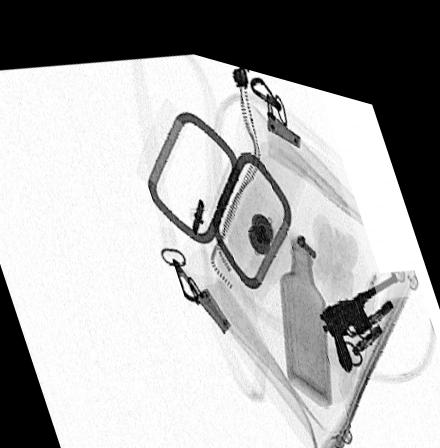Gun: (318, 247, 399, 356)
